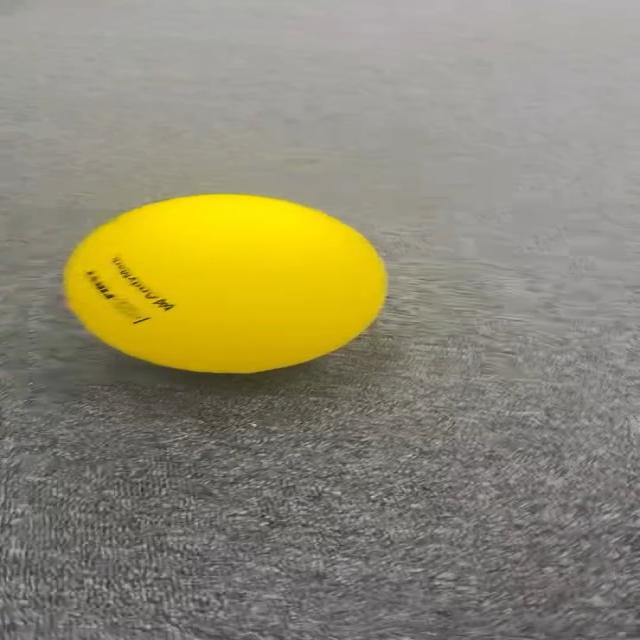Fuels: (62, 195, 384, 369)
